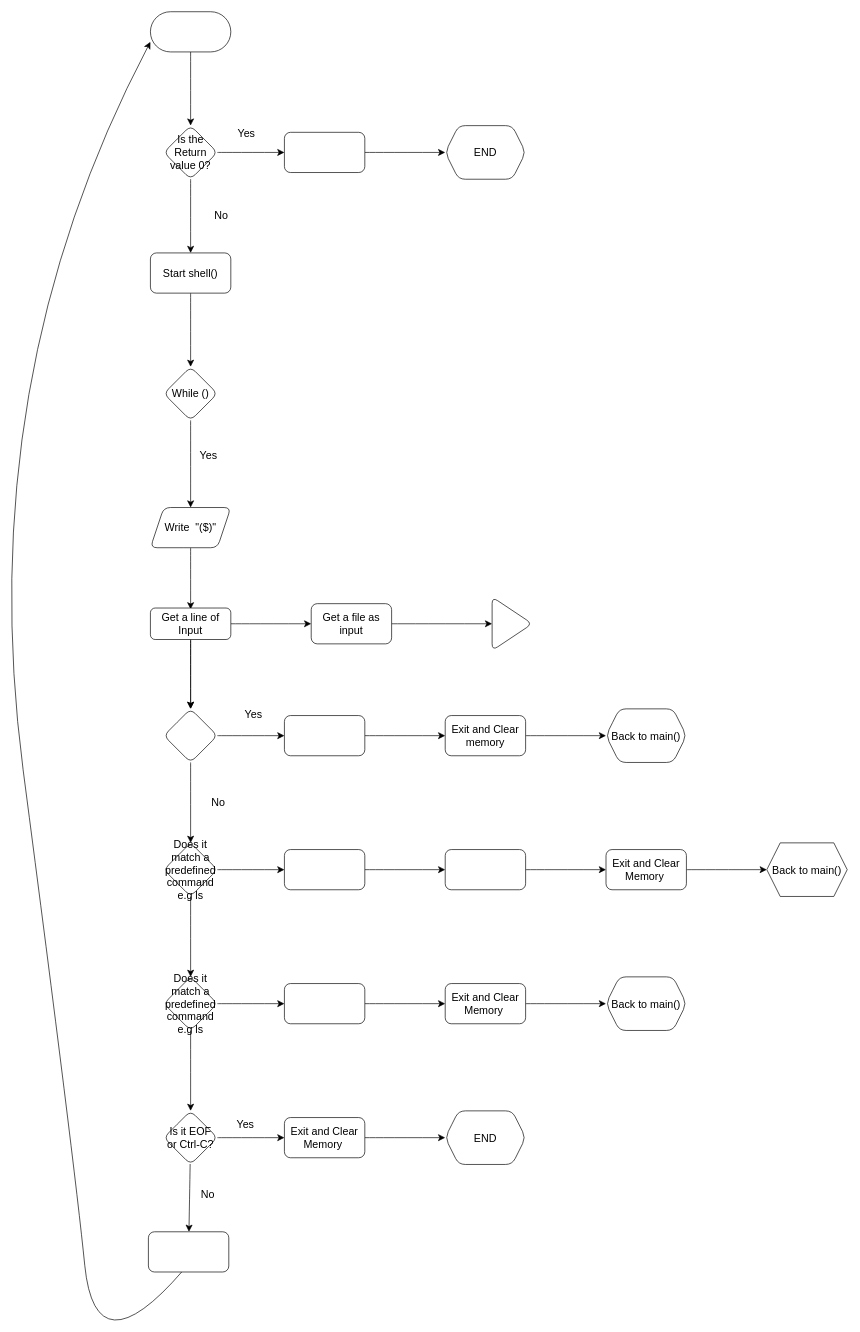
This 860x1332 diagram has some shape labels left out. The shapes that lost their labels are listed below. From the top down, each one's centre as x and y in pixels, then its label:
At point 190,31: "Start main()".
At point 324,152: "Exit and Clear Memory If necessary".
At point 511,623: "See next Flowchart".
At point 190,735: "Does input match any of the custom command names?".
At point 324,735: "Fork and Execute custom built-in command".
At point 324,869: "Find command path in PATH".
At point 485,869: "Fork and Execute command".
At point 324,1003: "Fork and Execute the Program".
At point 188,1251: "Exit and Free Memory".
